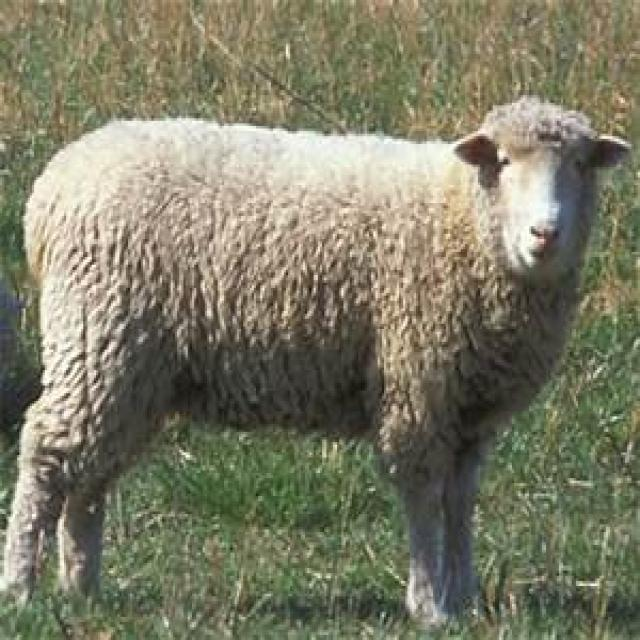sheep: (0, 92, 631, 629)
